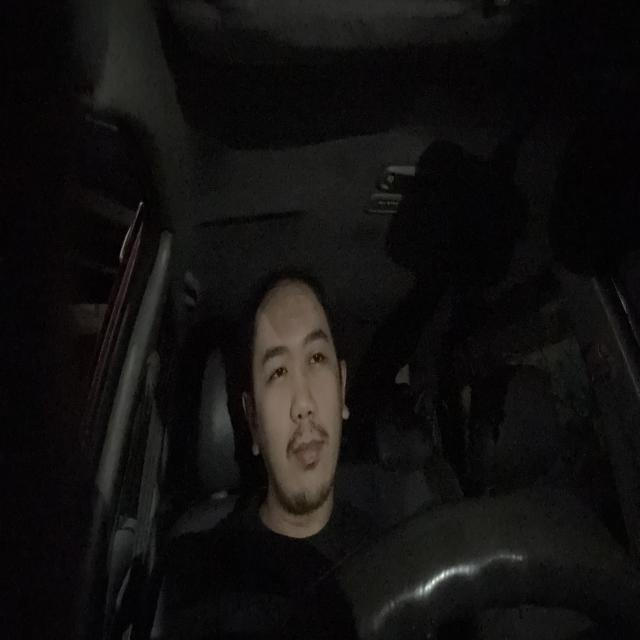open: (259, 344, 291, 394), (300, 327, 332, 376)
